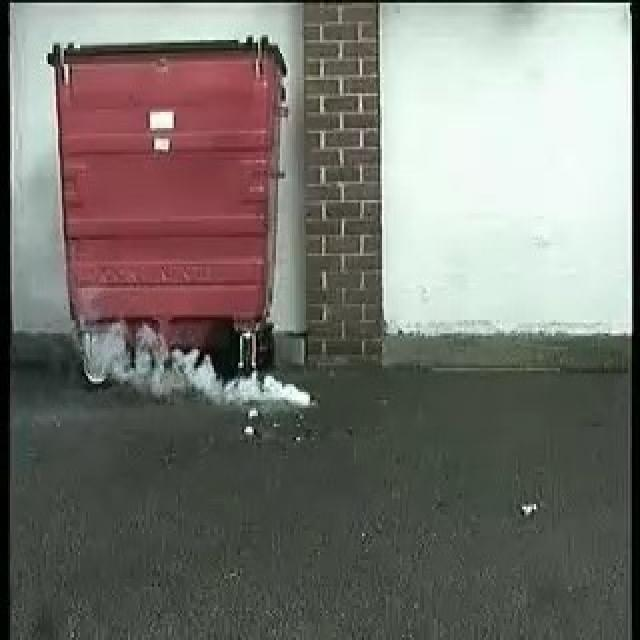smoke: (82, 320, 310, 404)
